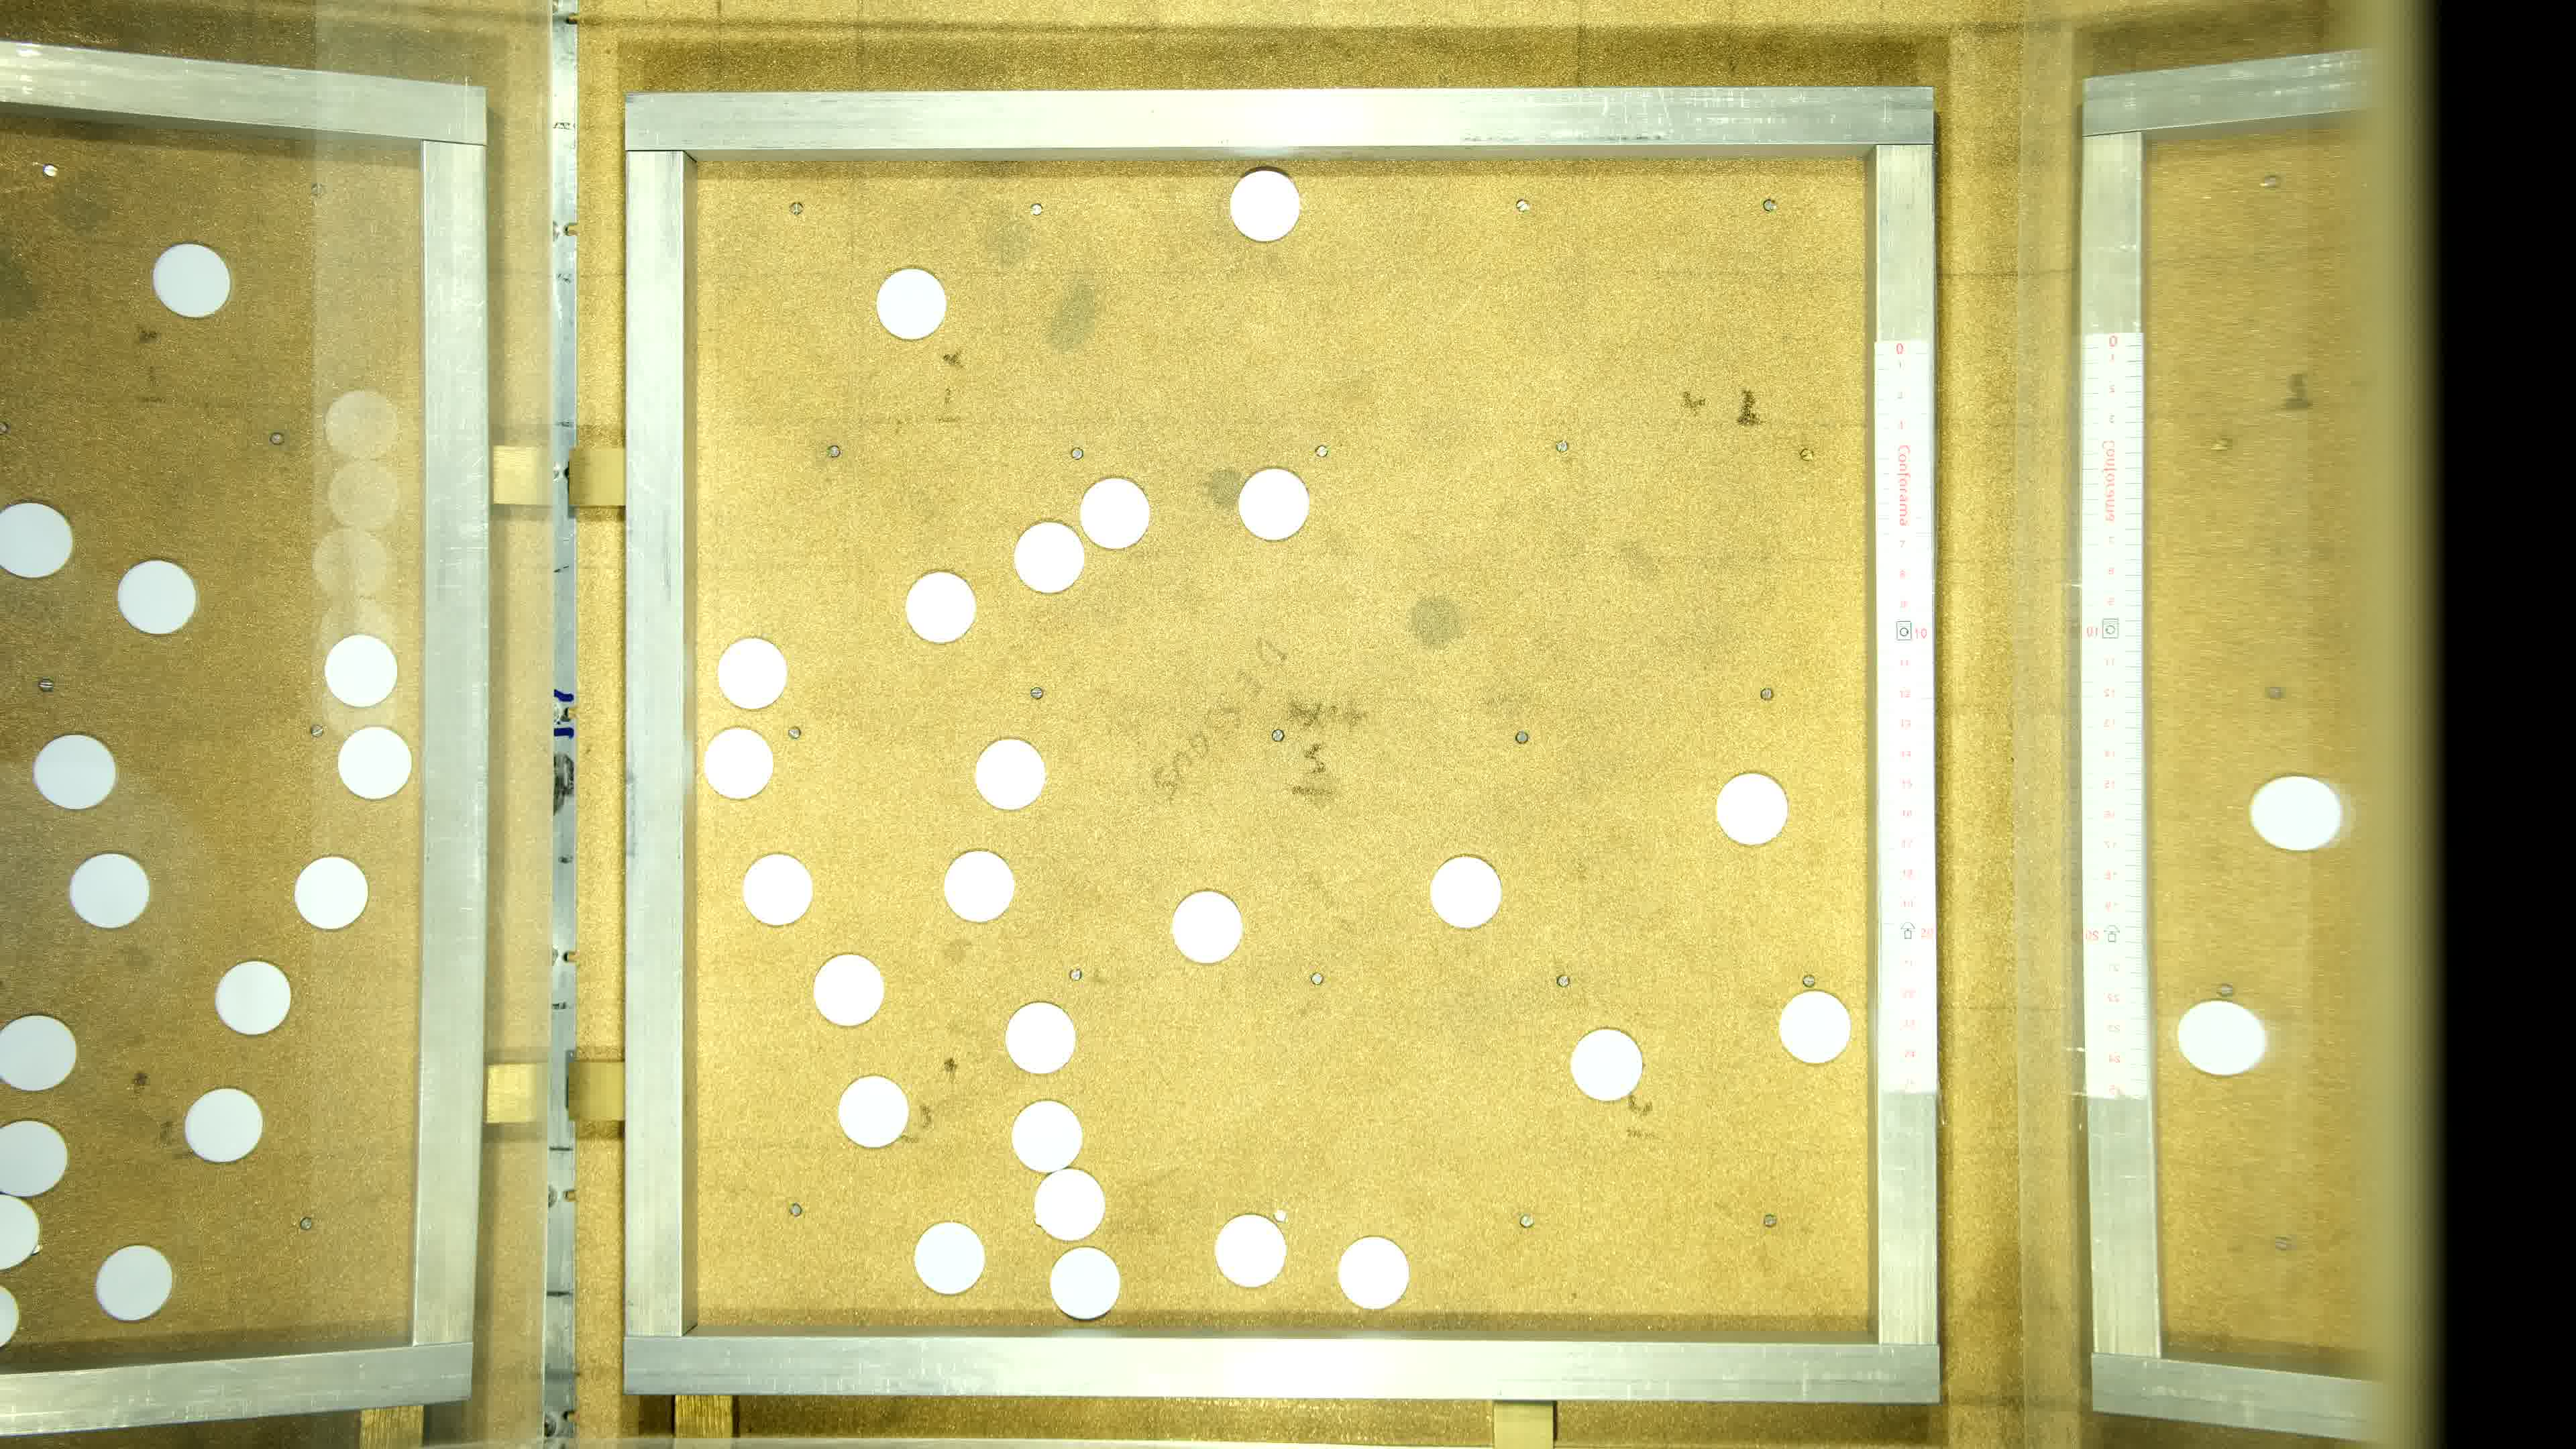pallet: (1079, 474, 1152, 550), (913, 1215, 985, 1292), (1171, 890, 1244, 964), (812, 952, 885, 1026), (1238, 467, 1311, 541), (717, 635, 789, 709), (704, 725, 777, 800), (743, 853, 816, 927), (975, 738, 1047, 812), (943, 849, 1016, 924), (810, 950, 883, 1024), (1049, 1246, 1122, 1320), (1010, 1095, 1083, 1169), (839, 1072, 911, 1146), (1005, 1000, 1077, 1074), (1338, 1233, 1410, 1307), (1214, 1210, 1286, 1284), (1718, 770, 1790, 844), (1571, 1026, 1644, 1100), (874, 265, 947, 340), (1230, 168, 1302, 242), (1014, 518, 1085, 593), (906, 570, 977, 644), (1035, 1168, 1106, 1242), (1778, 989, 1849, 1063), (1431, 853, 1502, 927)
